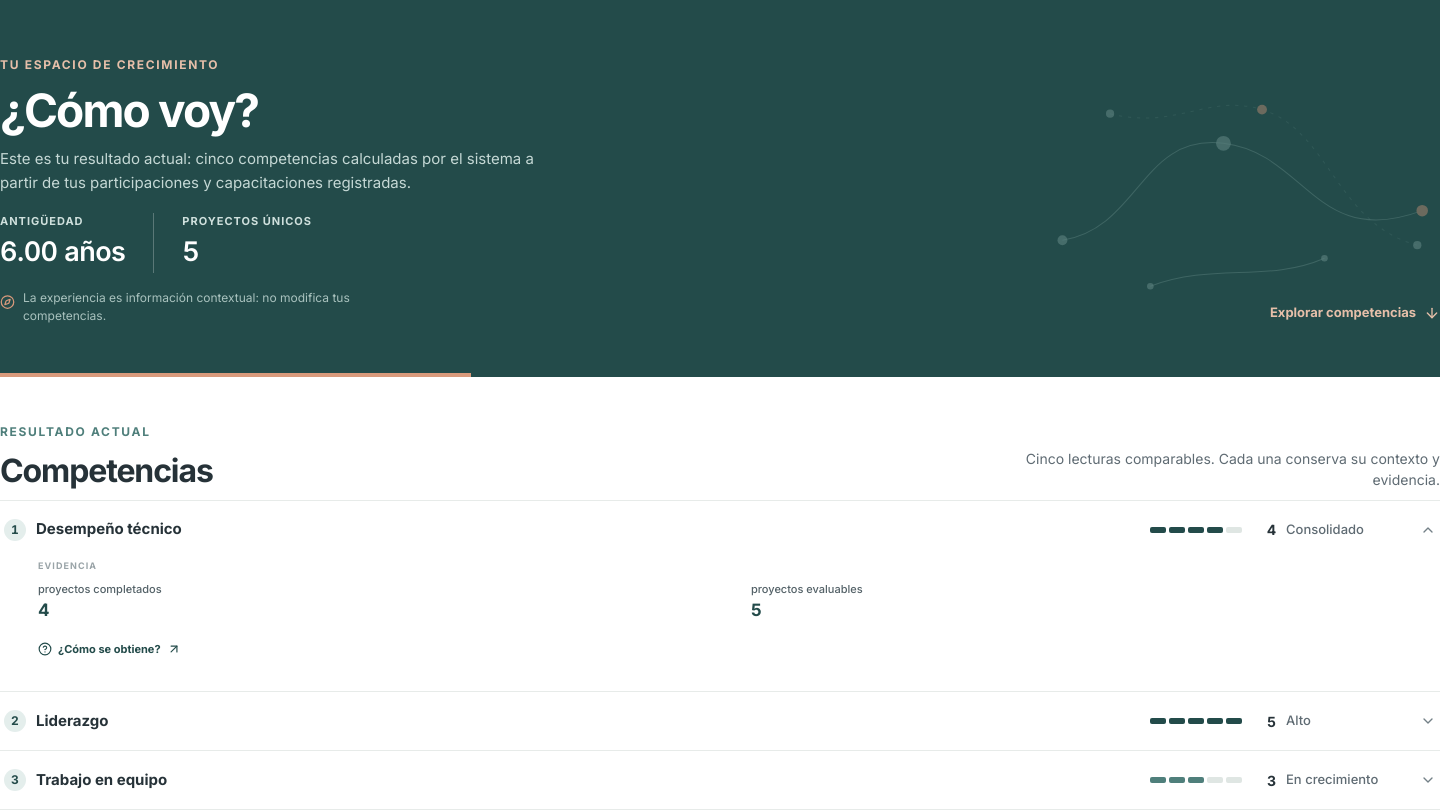
it: MiProgreso — acordeón de competencias (estado accesible) › el botón alterna el estado y la visibilidad del cuerpo con el teclado
Expected: the heading "Competencias" is shown, x1=0 y1=453 x2=213 y2=490
What coordinates should you click on to do the following:
click the button with class "acordeon__ah" showing "1 Desempeño técnico"
I would click on:
 (109, 529)
Its box is x1=0 y1=500 x2=1439 y2=558.
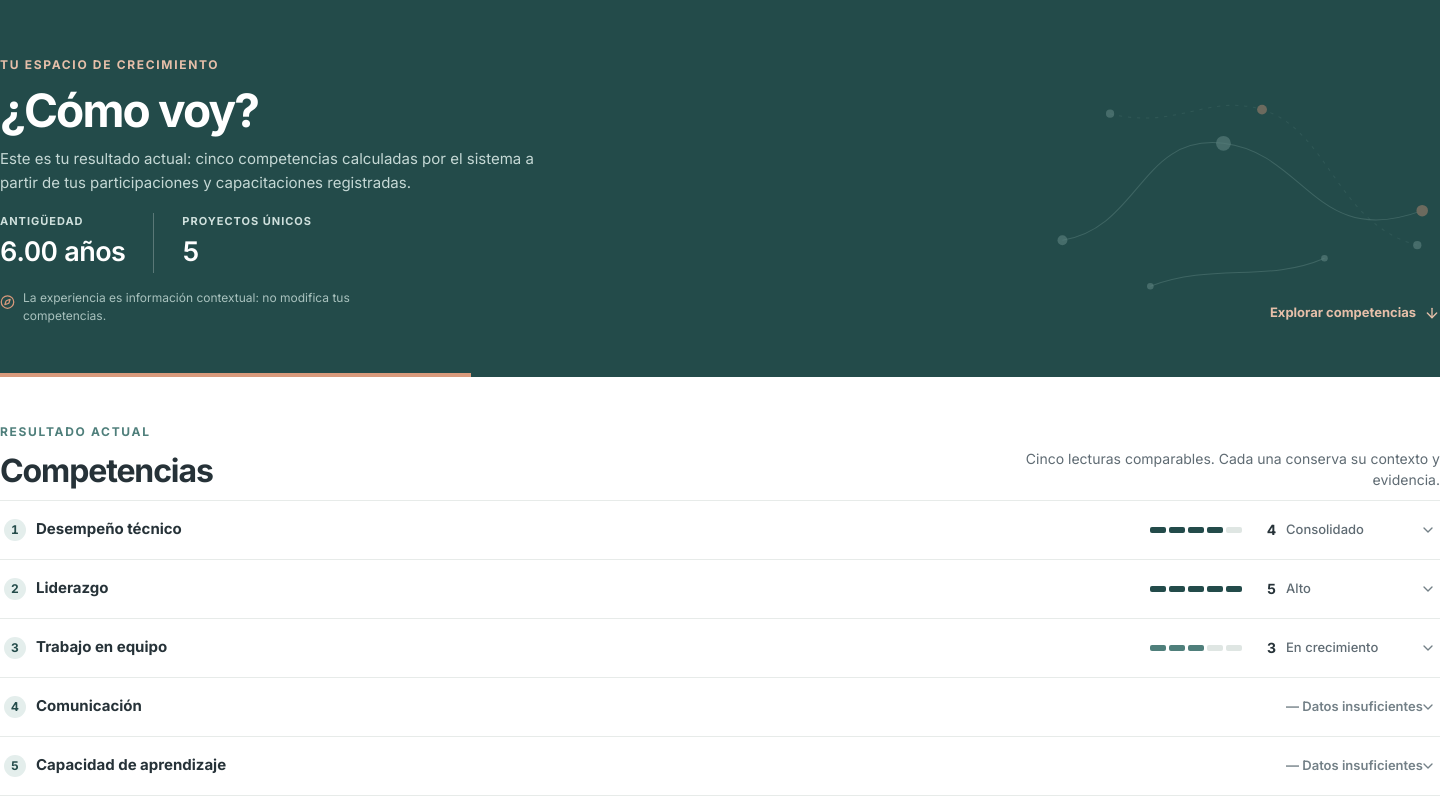
Expected: the button with class "acordeon__ah" is collapsed
What coordinates should you click on to do the following:
click the button with class "acordeon__ah" showing "1 Desempeño técnico"
I would click on:
 (109, 529)
Its box is x1=0 y1=500 x2=1439 y2=558.
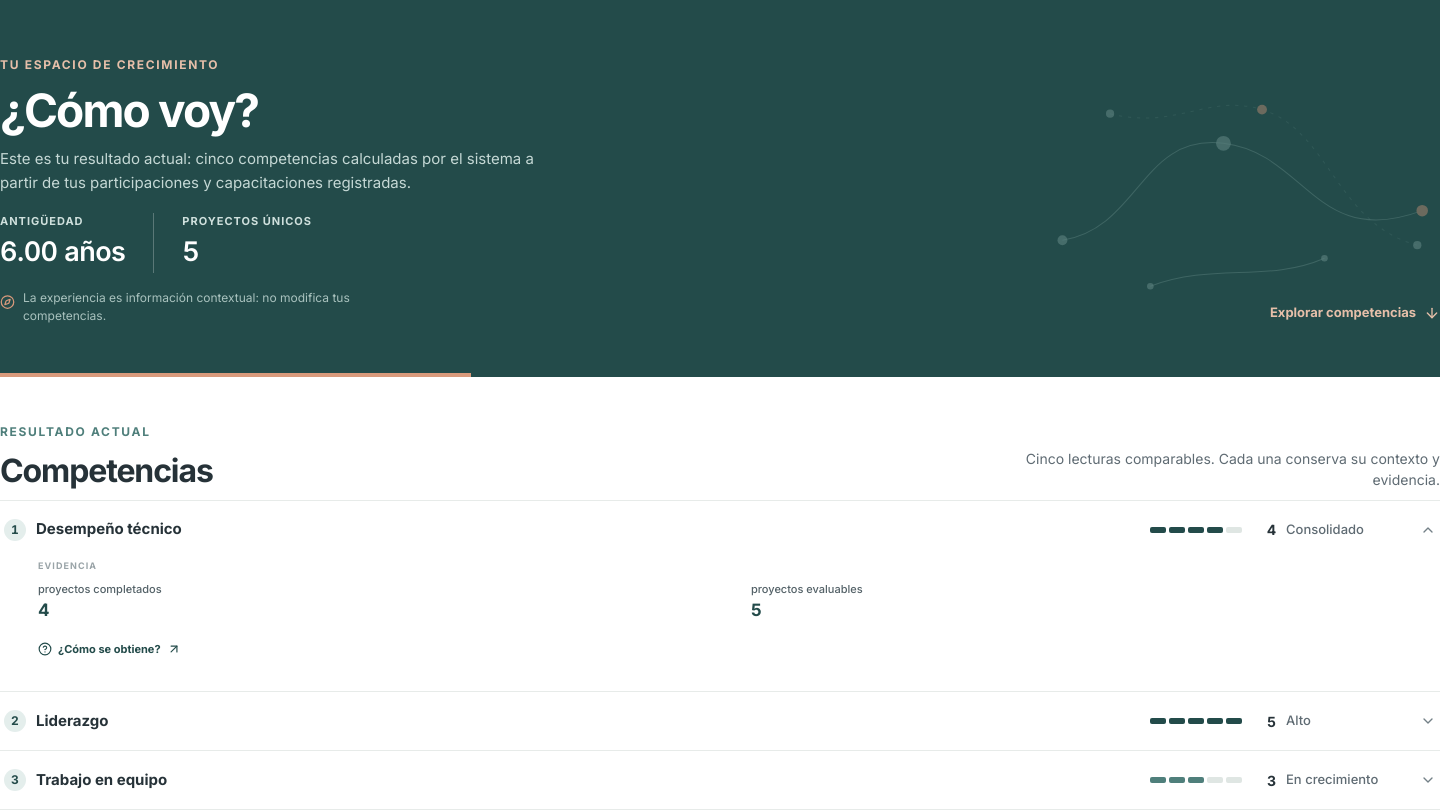
Expected: the button with class "acordeon__ah" is expanded, x1=0 y1=500 x2=1439 y2=558
